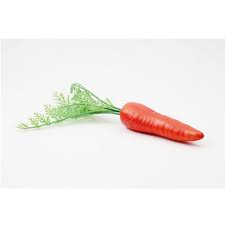carrot: (112, 97, 205, 148)
